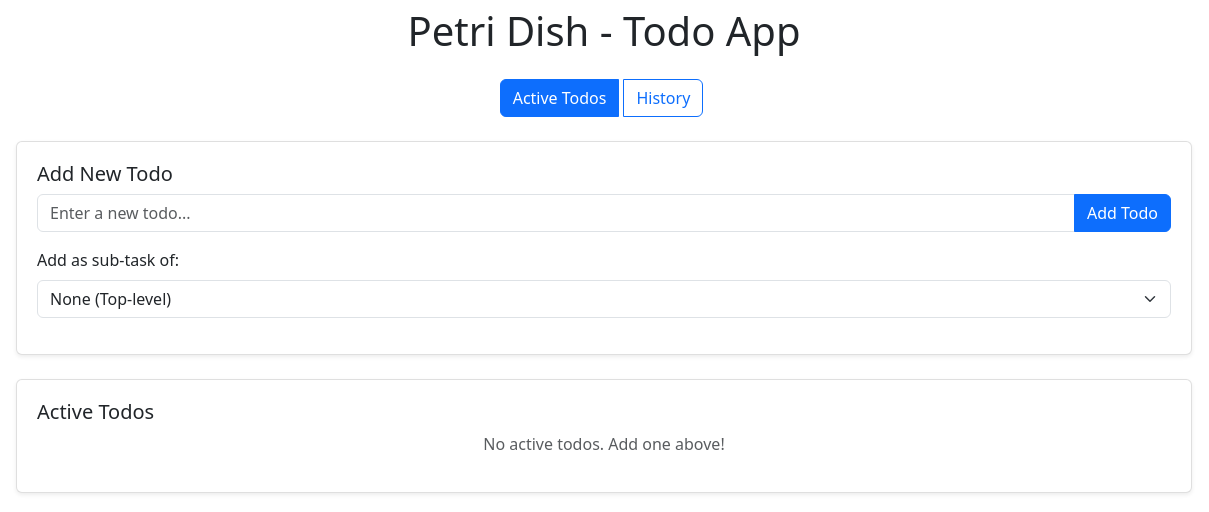
Test: App Component › Display Features › displays completed date for completed todos
This screenshot has width=1209, height=512.
Click the button "History": [663, 98] box [623,79,703,117]
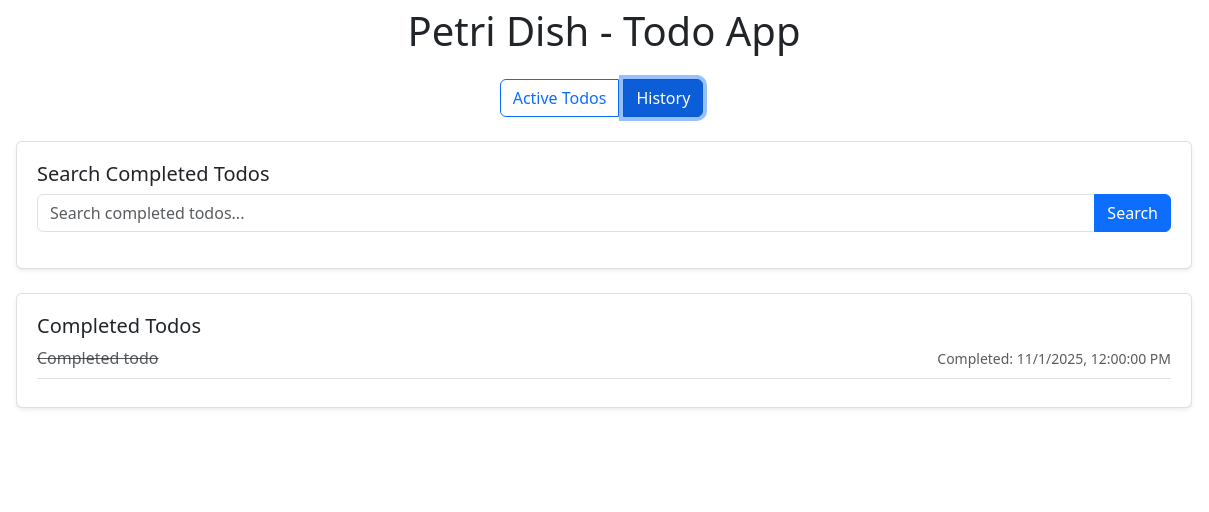
Expected: the heading "Search Completed Todos" is shown, [37,160,270,187]
Expected: the text "Completed todo" is shown, [37,346,158,370]
Expected: the text "Completed: 11/1/2025, 12:00:00 PM" is shown, [937,348,1171,368]
